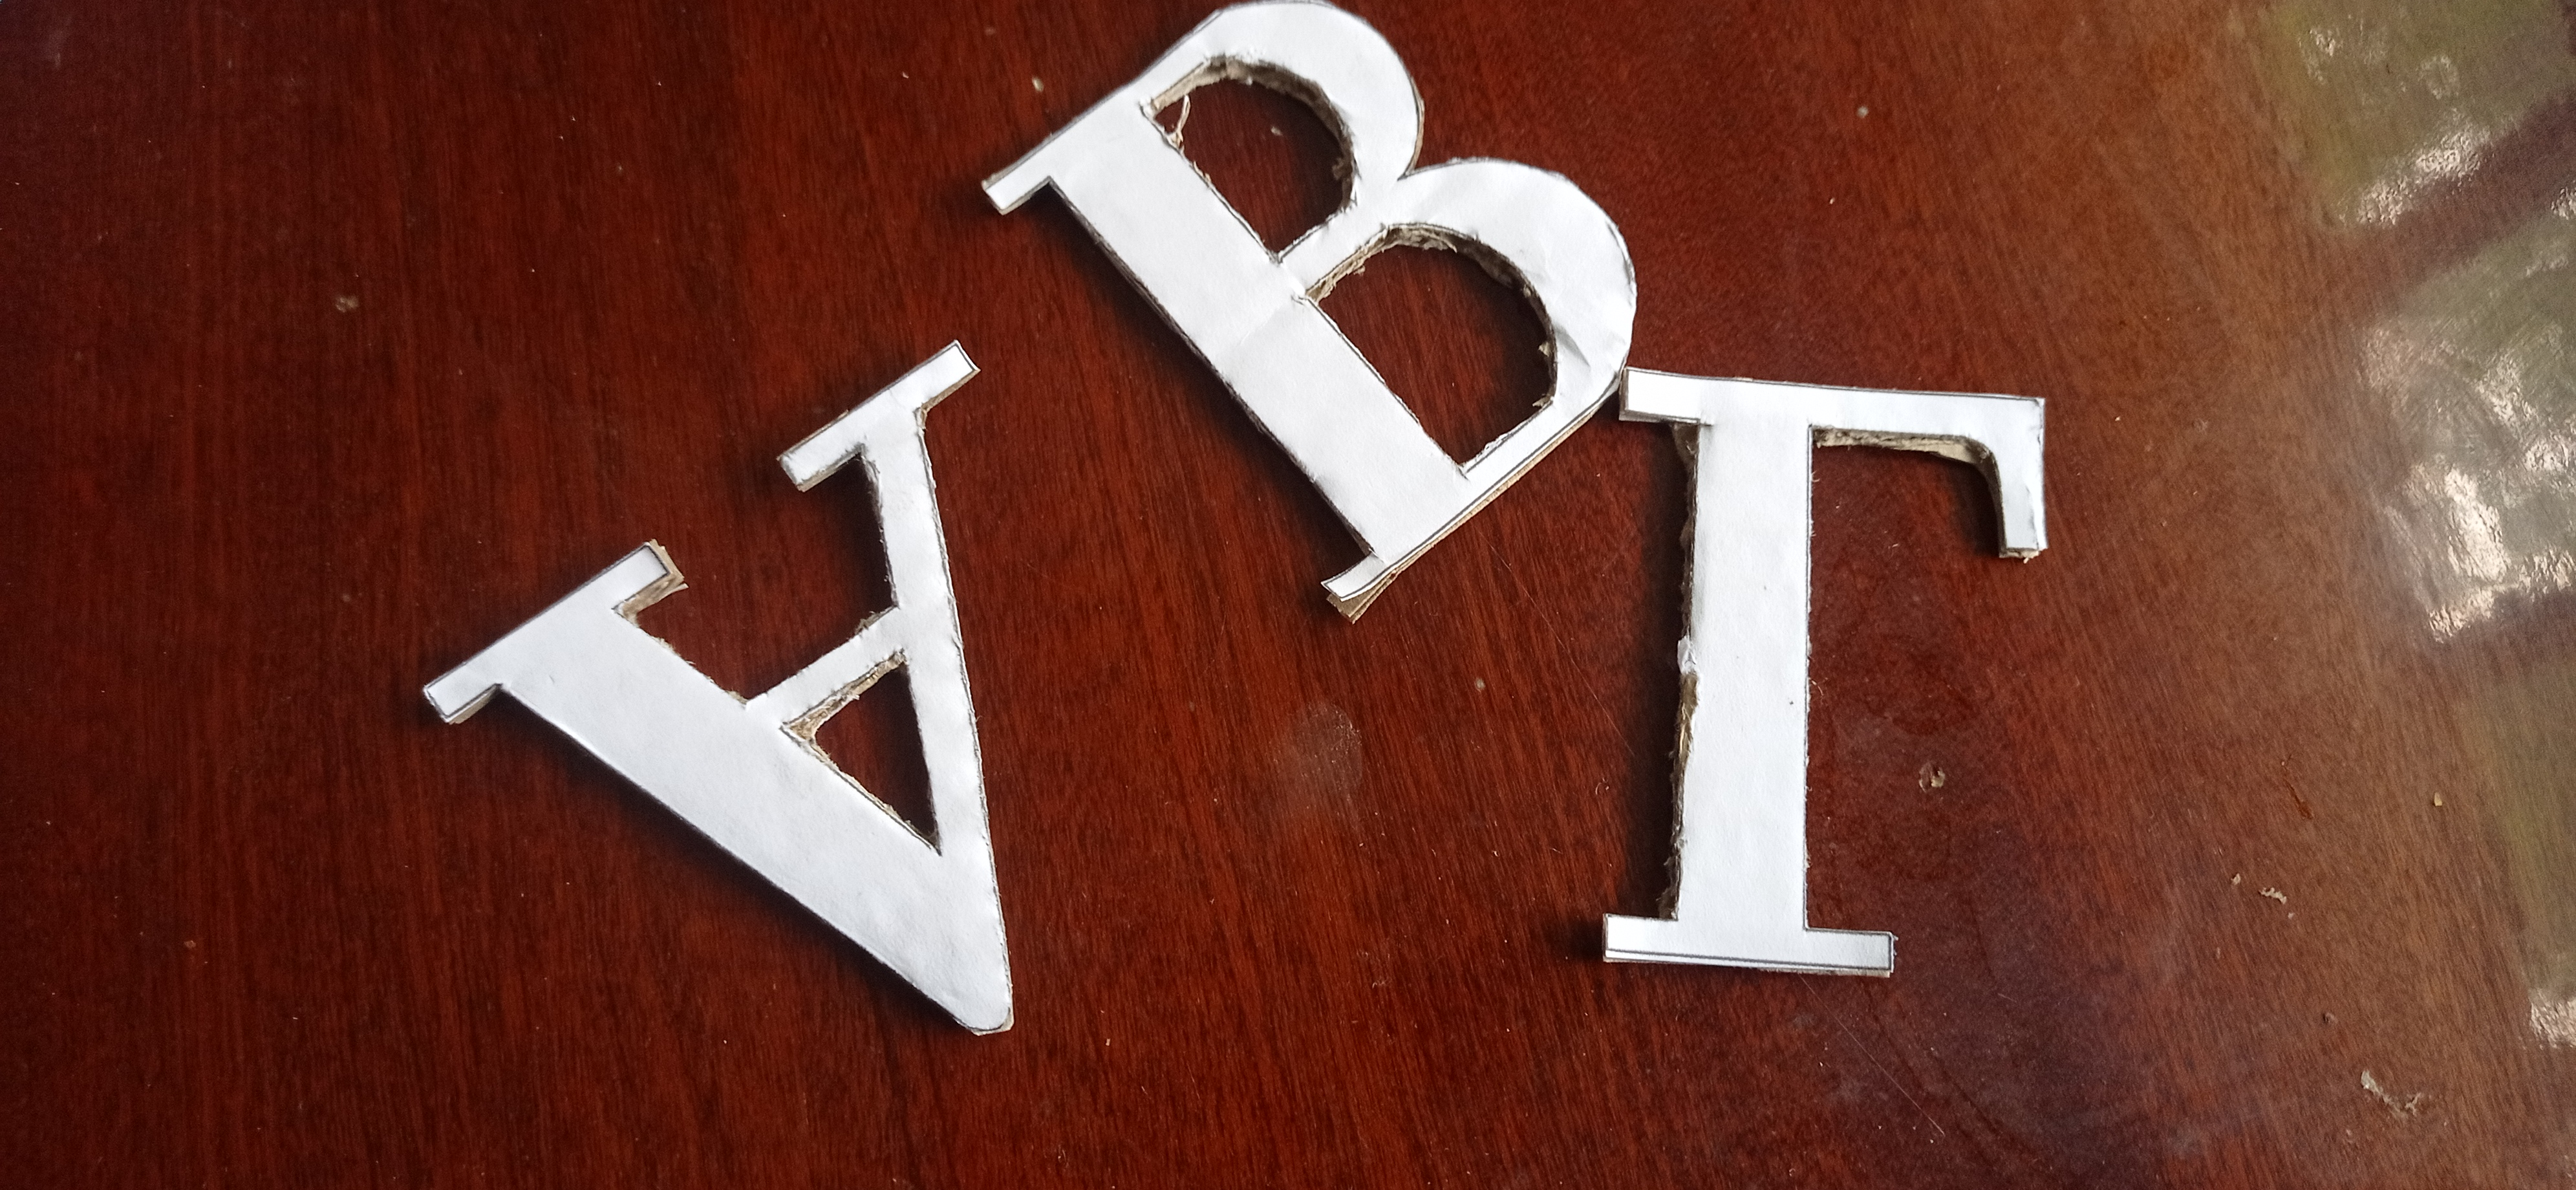a: (422, 334, 1020, 1039)
g: (1597, 362, 2054, 983)
v: (979, 0, 1641, 628)
